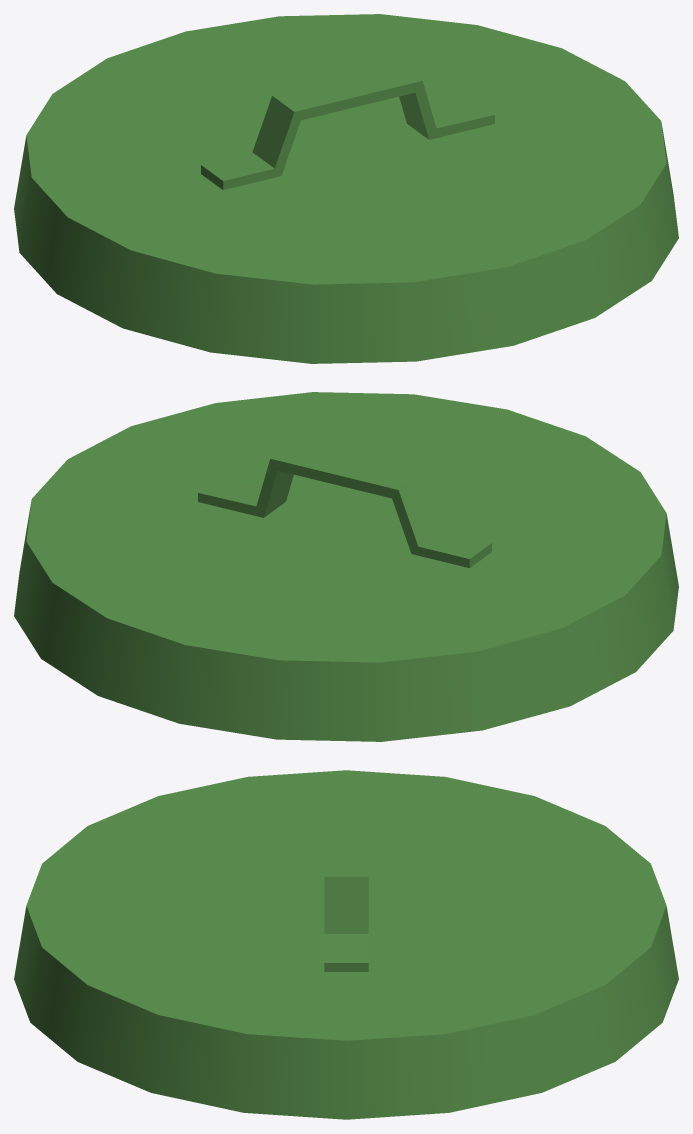
File: trash cap.FBX
3 views of the same model, one above another, from view 1: azimuth 30°, elevation 25°; view 2: azimuth 150°, elevation 25°; view 3: azimuth 270°, elevation 25° (orthographic).
Visible parts, largest first — view 1: Object341; view 2: Object341; view 3: Object341.
Part boxes in pixels (<box>): Object341: <box>14,14,678,363</box>; Object341: <box>14,392,678,741</box>; Object341: <box>14,770,678,1119</box>.
Bounding box in the file's own units: 0.6 × 0.1337 × 0.6.
